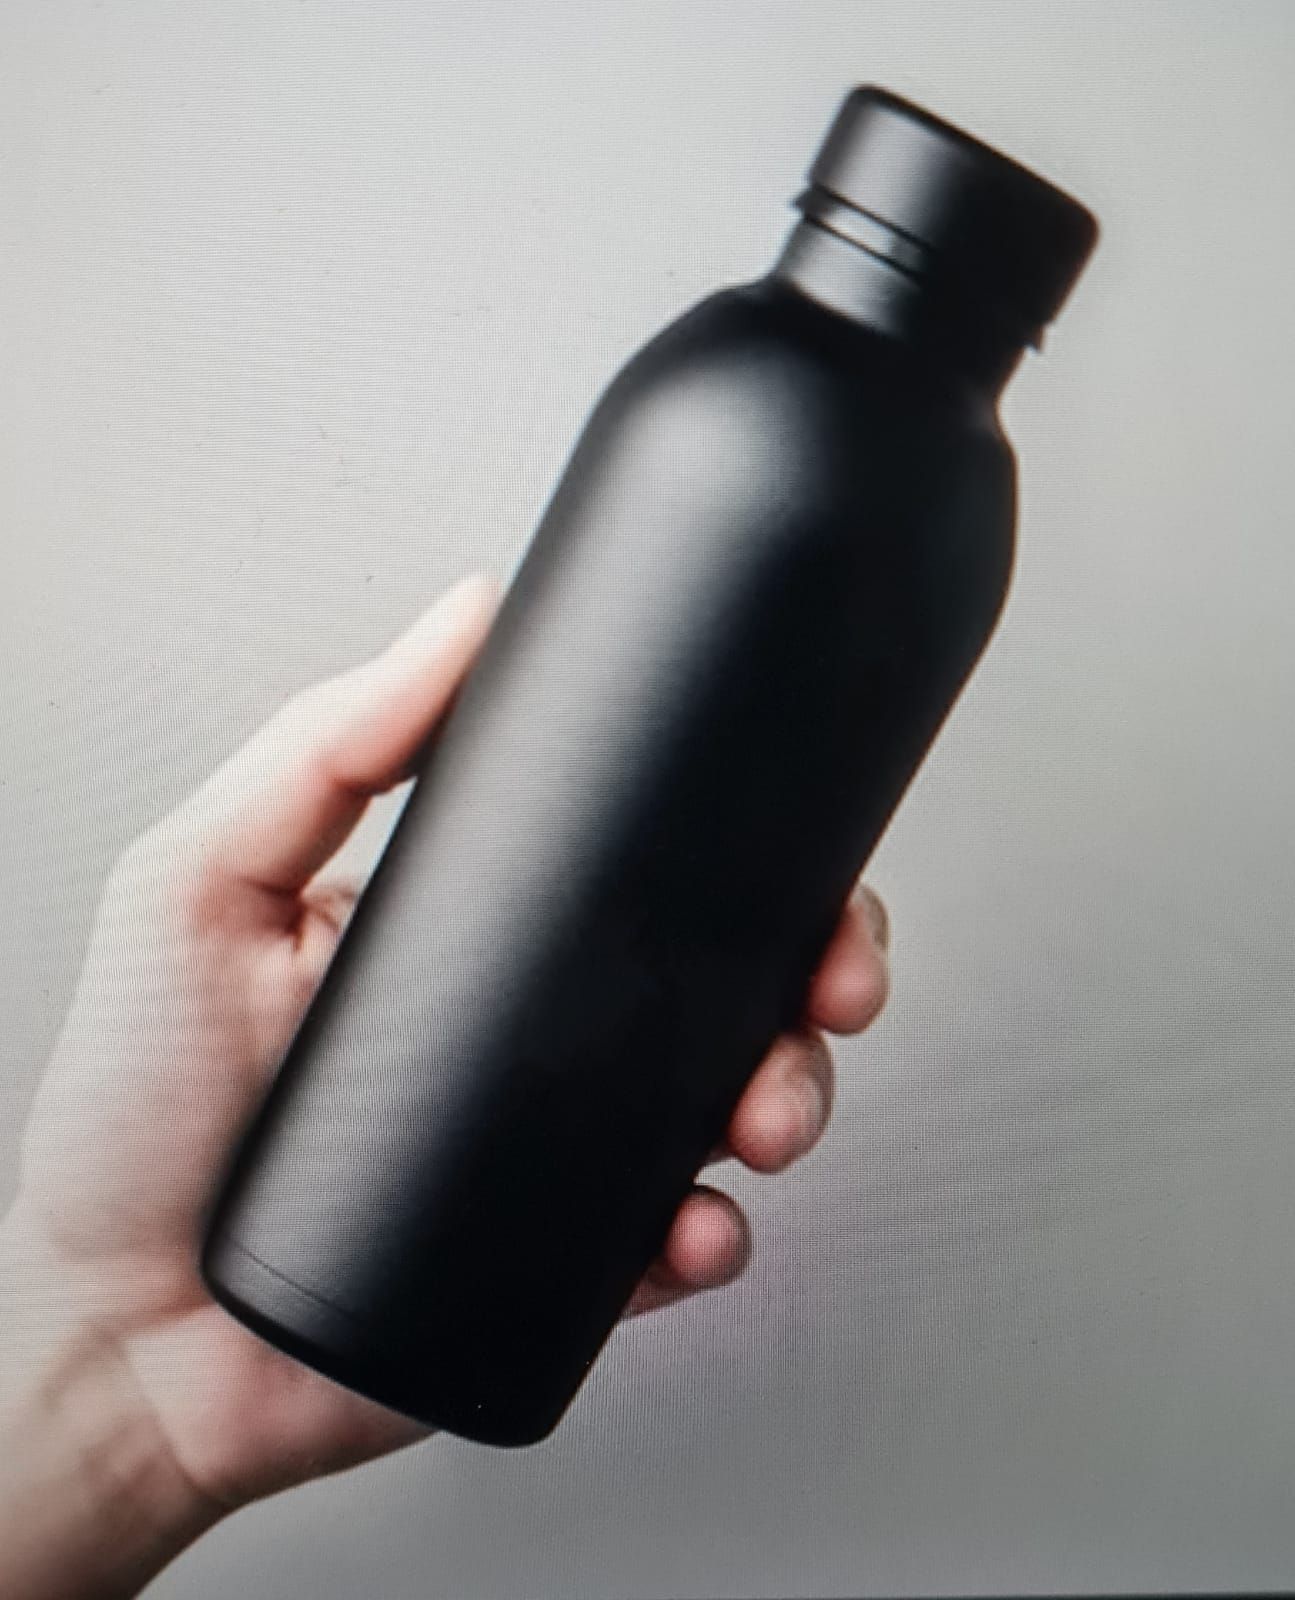bottle: (184, 87, 1110, 1467)
